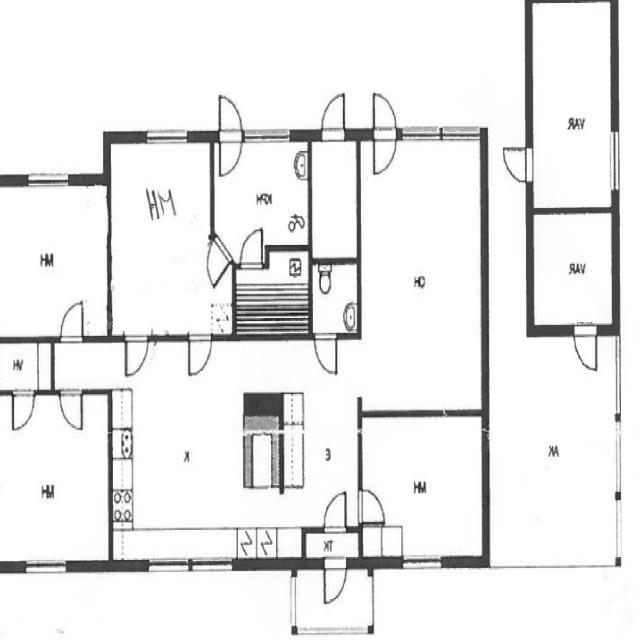door: (199, 236, 232, 286), (504, 148, 534, 182), (574, 324, 596, 369), (220, 130, 242, 175), (220, 96, 242, 141), (322, 96, 344, 141), (374, 130, 396, 175), (374, 96, 396, 141), (324, 558, 346, 603), (189, 336, 212, 376), (61, 302, 83, 341), (315, 336, 337, 375), (60, 390, 82, 428), (13, 390, 35, 428), (126, 336, 148, 374), (324, 494, 346, 532), (358, 490, 383, 523), (241, 231, 262, 269)
